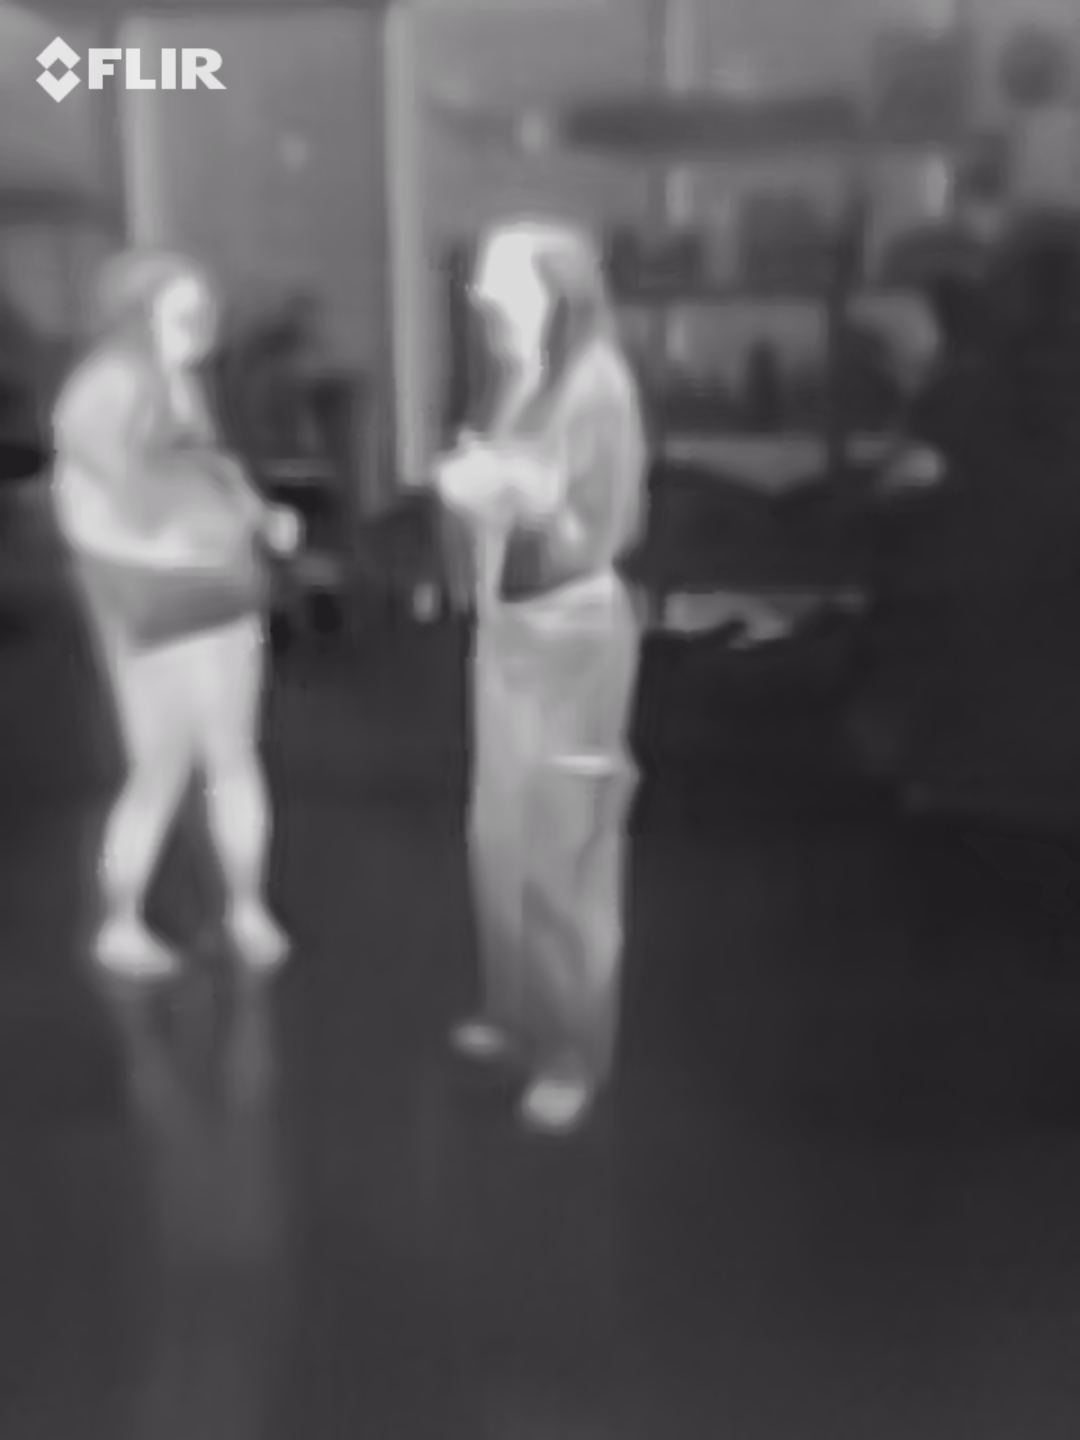head: (466, 216, 604, 372), (113, 247, 224, 381)
